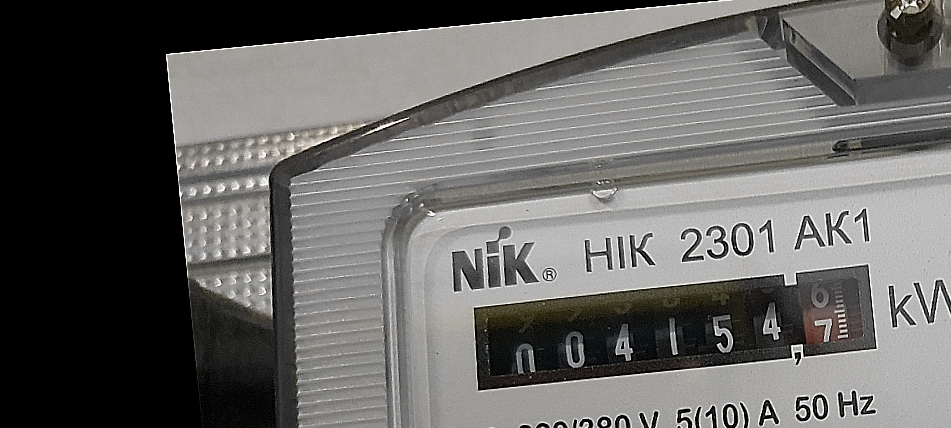0: (561, 326, 588, 370), (512, 337, 538, 373)
1: (665, 314, 682, 356)
4: (610, 320, 637, 363), (759, 297, 783, 342)
5: (710, 308, 738, 354)
6: (808, 277, 833, 309)
7: (812, 313, 835, 344)
screen: (453, 248, 896, 405)
